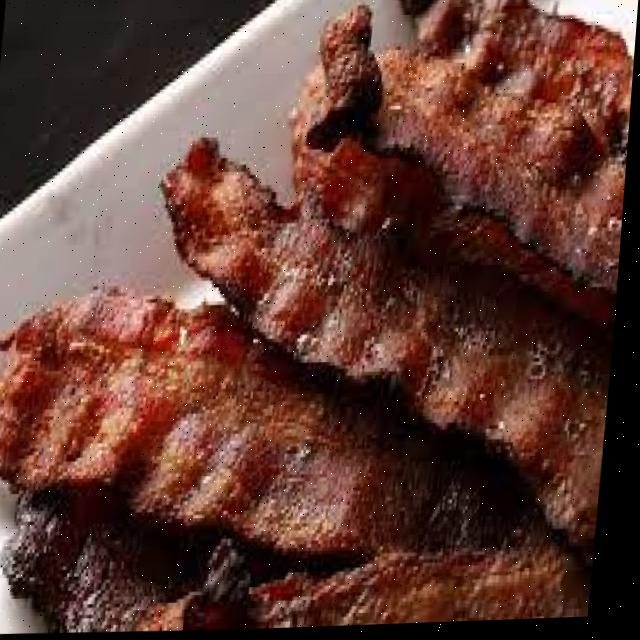Bacon: (168, 139, 618, 550), (0, 290, 462, 560), (379, 2, 633, 296), (258, 549, 586, 630), (449, 210, 618, 319)
